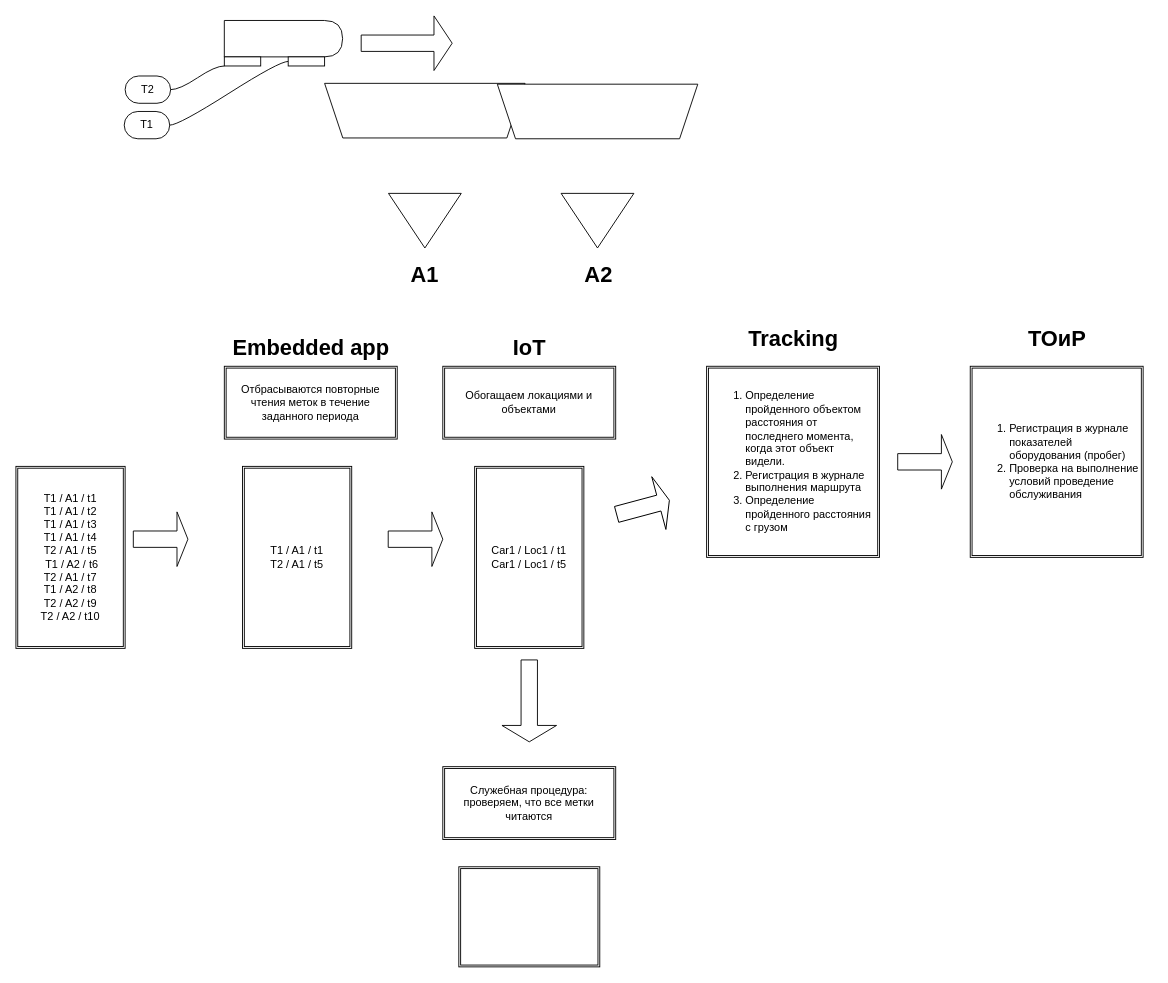
This 1168x983 diagram has some shape labels left out. Each missing label, with the box of its shape:
Car1(T1) && Car1(T2): (458, 866, 600, 967)
Вагон/локомотив: (223, 20, 343, 57)
